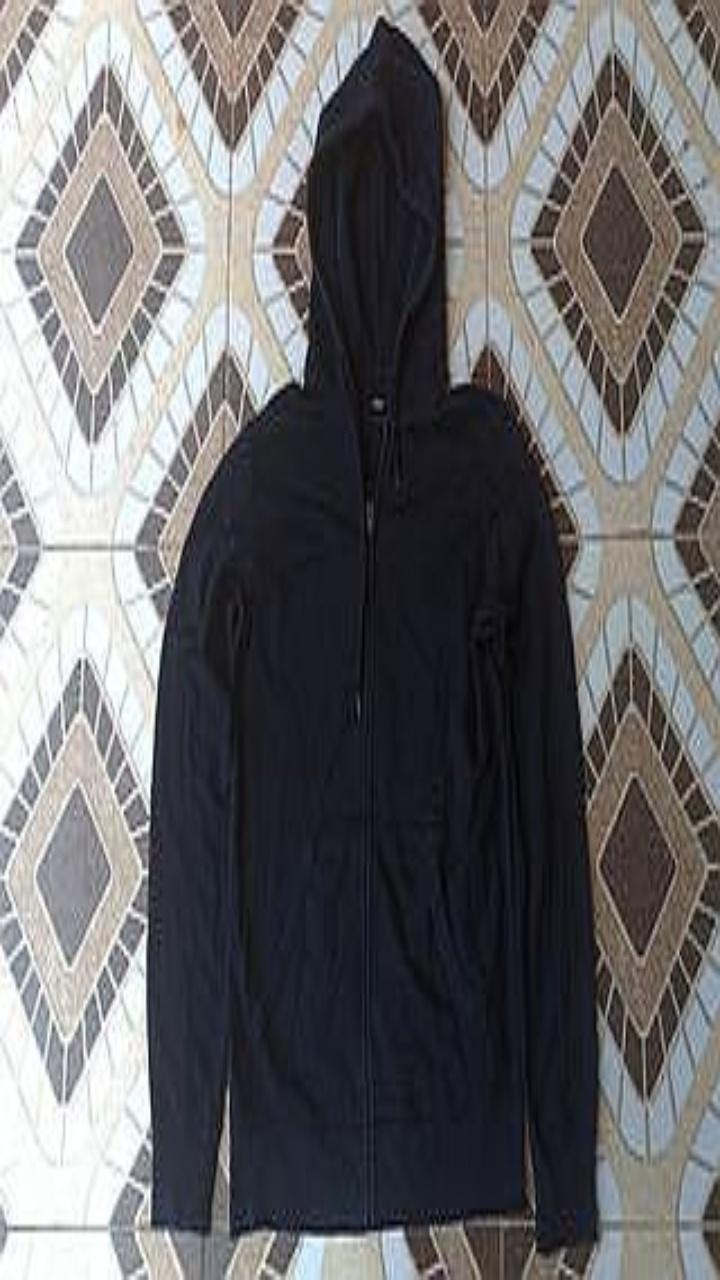Sports_Jacket: (147, 15, 597, 1251)
